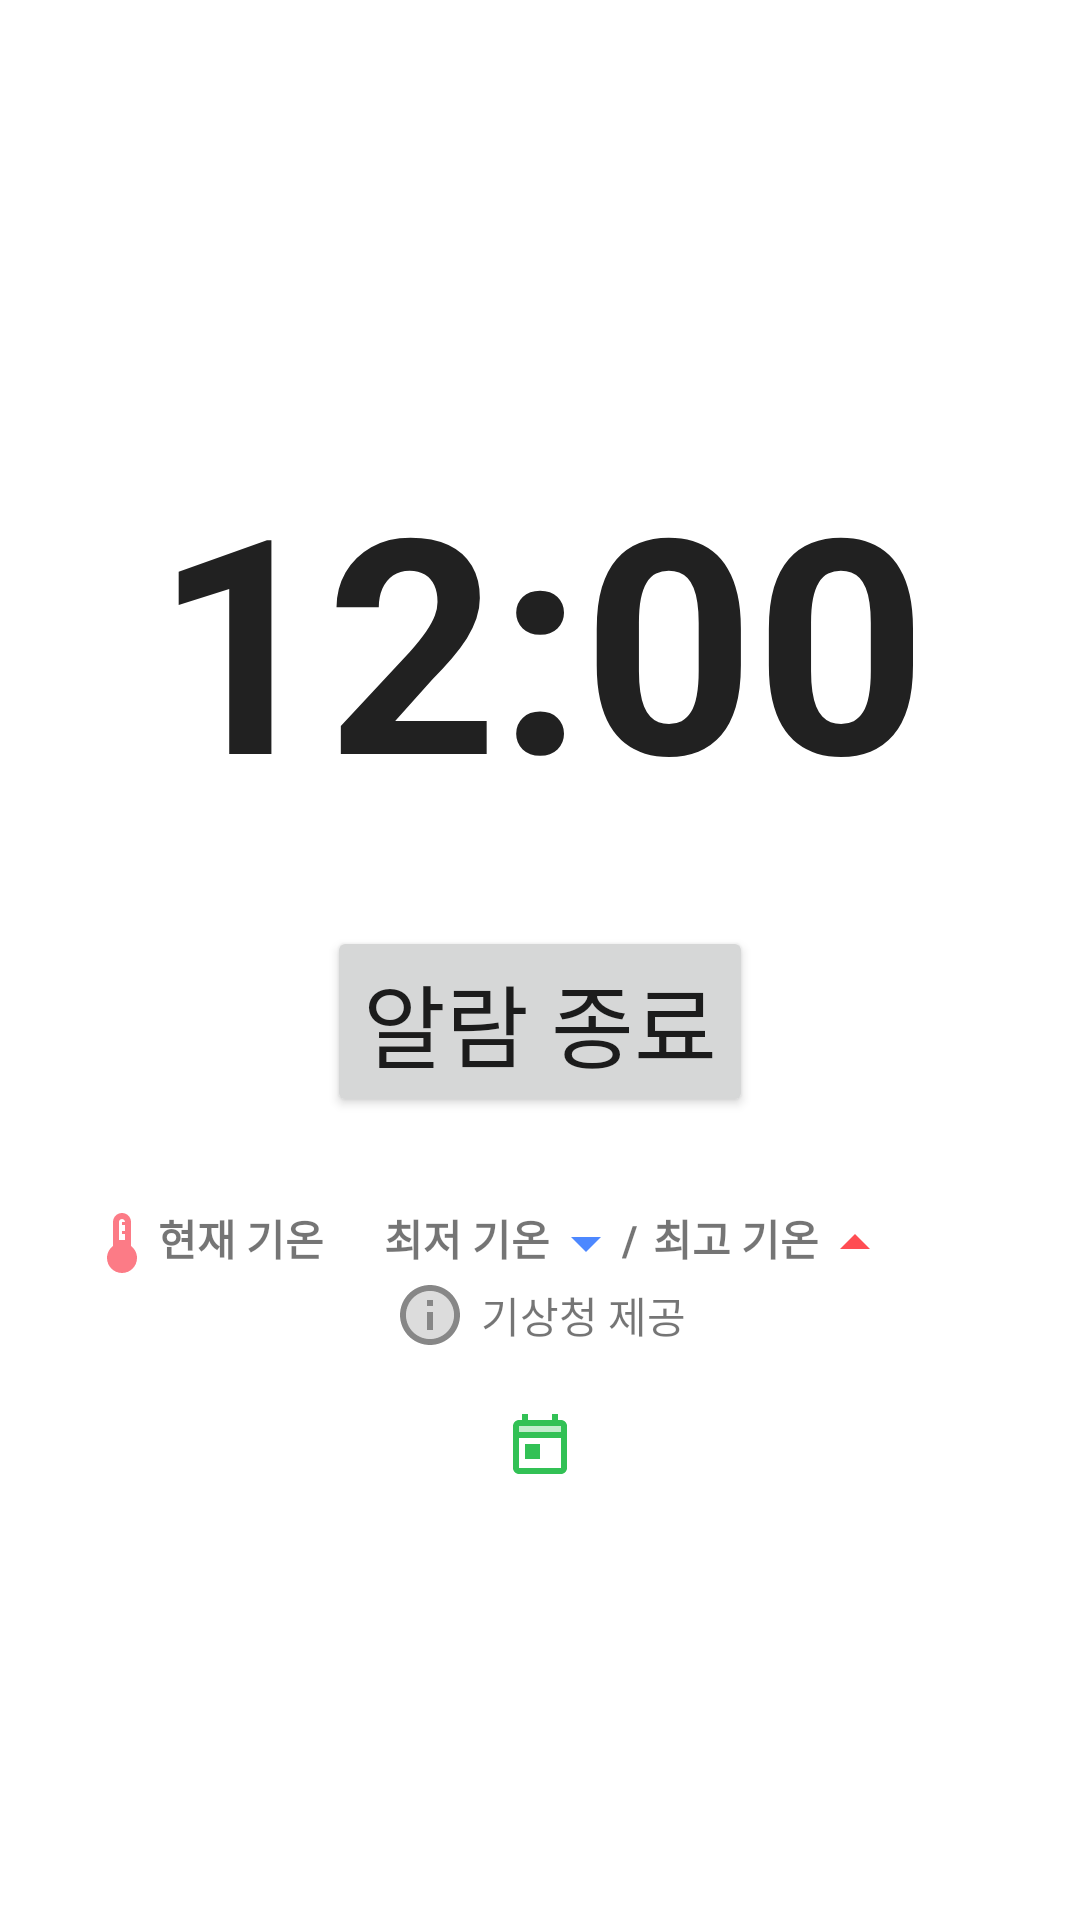

Named icons in this screenshot (1080 × 1920) and their bounding boxes, (x1, y1, x2, y2):
arrow down: (571, 1237, 601, 1252)
arrow up: (840, 1234, 870, 1249)
info: (400, 1285, 460, 1345)
thermostat: (107, 1213, 137, 1273)
today: (513, 1414, 567, 1474)
